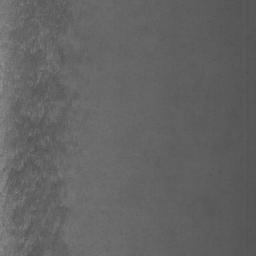Silk spot: (3, 38, 79, 253), (5, 2, 39, 65), (48, 205, 71, 251), (43, 180, 66, 213), (52, 0, 73, 35), (23, 237, 43, 256), (40, 9, 54, 27), (56, 46, 66, 67), (40, 229, 51, 237)
